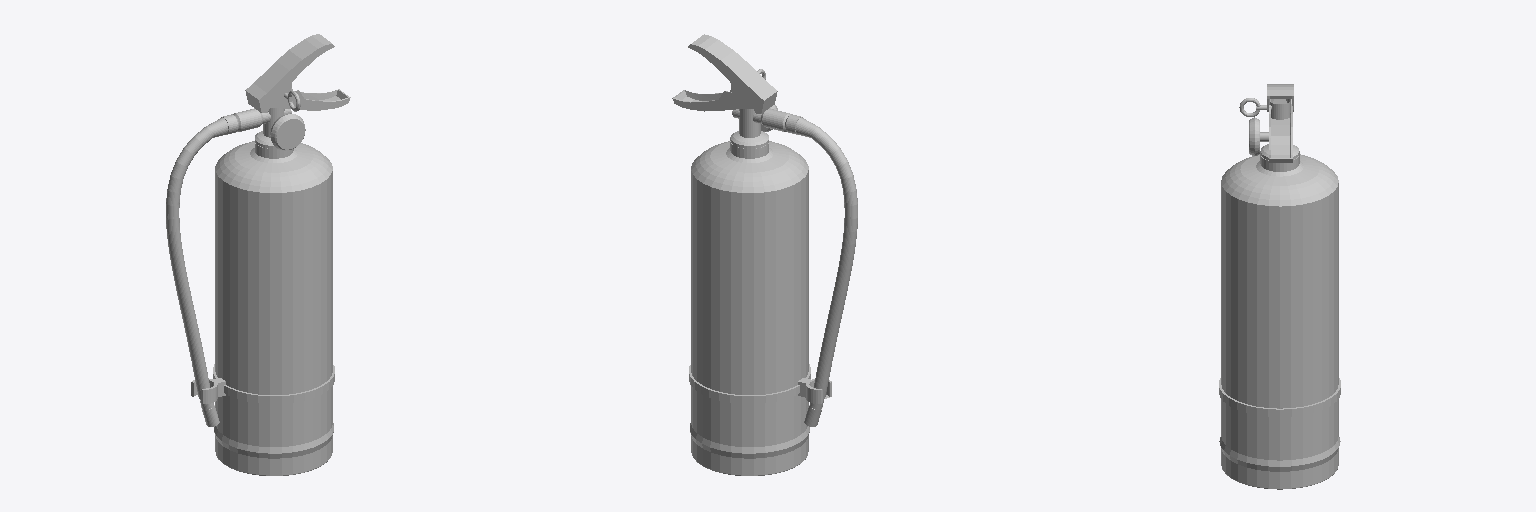
Rendered from fire-extinguisher.obj.
3 renders of one model, left to right at view 1: azimuth 30°, elevation 25°; view 2: azimuth 150°, elevation 25°; view 3: azimuth 270°, elevation 25°, orthographic.
Parts seen in each view (by area): view 1: Cylinder; view 2: Cylinder; view 3: Cylinder.
Boxes of the visible parts, <box> form: Cylinder: <box>166,34,350,475</box>; Cylinder: <box>672,34,857,475</box>; Cylinder: <box>1219,84,1340,489</box>.
Bounding box in the file's own units: 1.08 × 2.31 × 0.644.